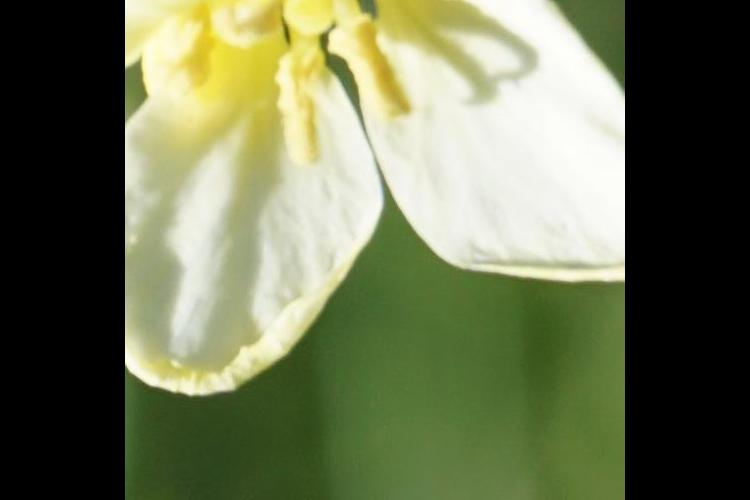white: (130, 1, 618, 376)
